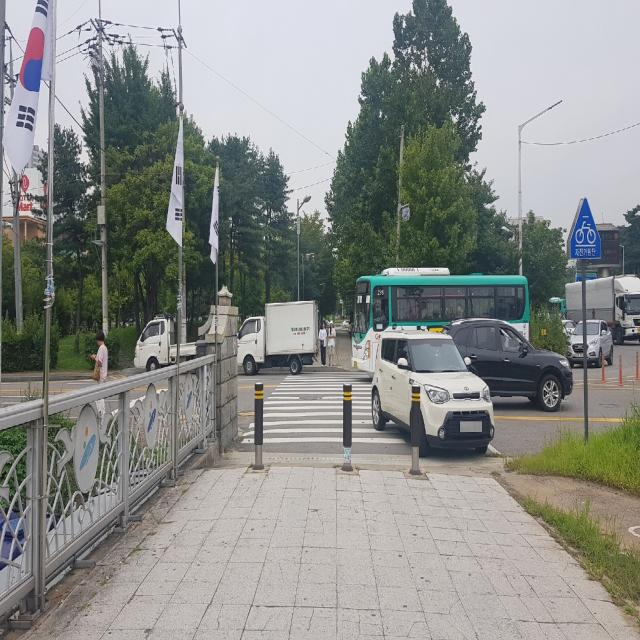횡단보도: (240, 371, 406, 445)
